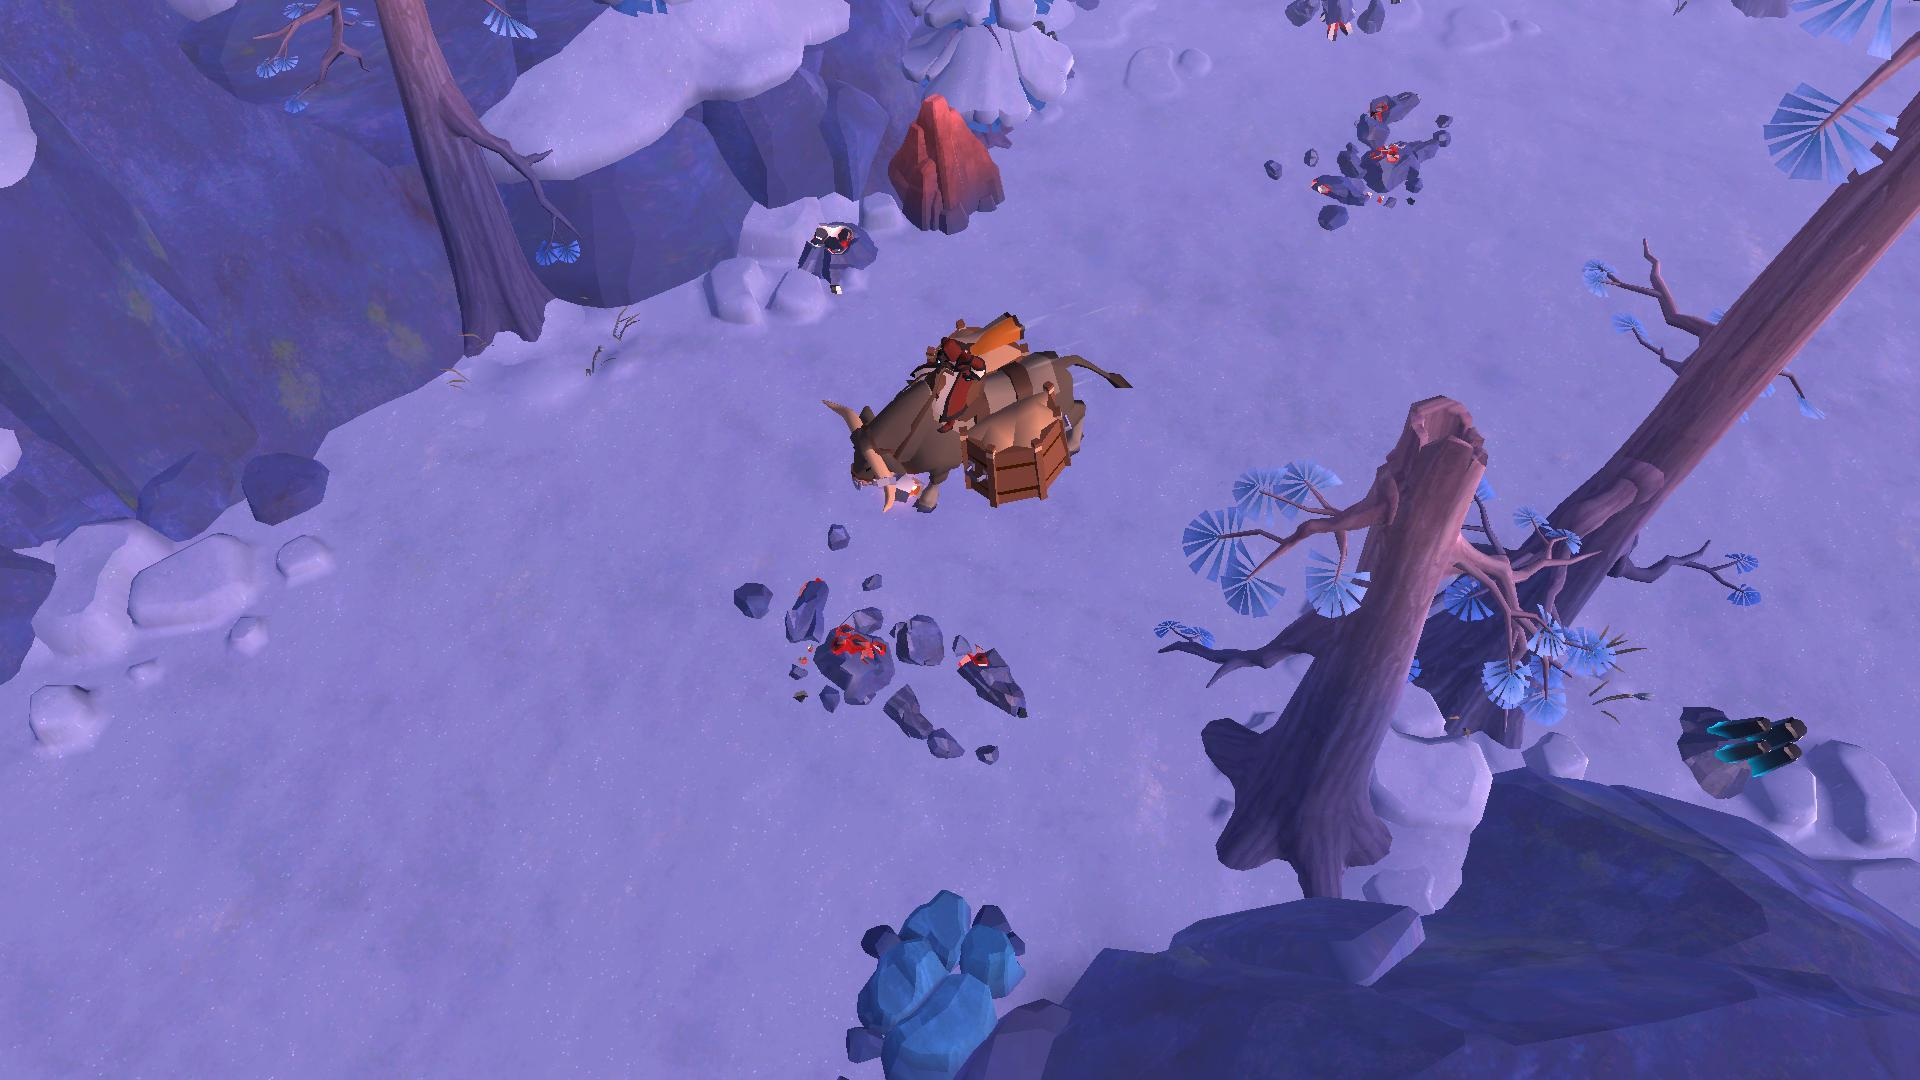ore_t4: (1697, 702, 1800, 782)
rock_t4: (855, 881, 1025, 1077)
rock_t5: (886, 92, 1000, 235)
